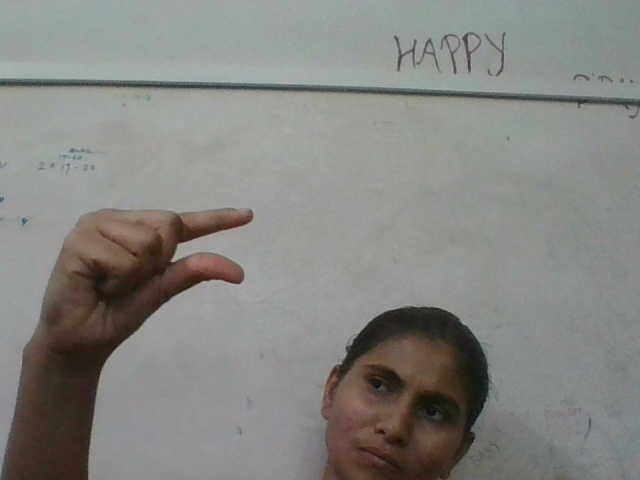No: (35, 194, 257, 351)
